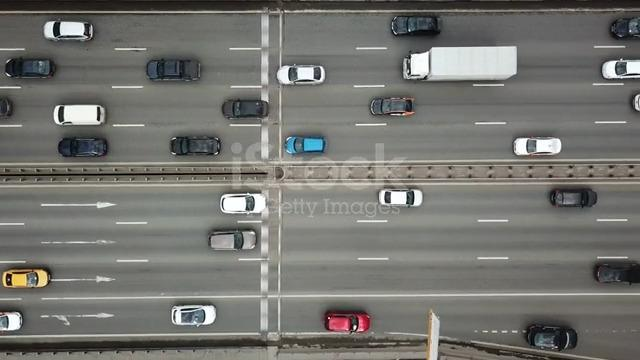Cars: (146, 58, 201, 82), (53, 104, 107, 126), (391, 15, 442, 37), (5, 57, 56, 79), (276, 64, 326, 86), (44, 20, 94, 42), (58, 137, 109, 158), (595, 262, 640, 285), (2, 268, 51, 289), (170, 136, 221, 156), (325, 311, 371, 333), (513, 137, 562, 157), (370, 96, 416, 117), (222, 99, 269, 119), (379, 188, 424, 208), (284, 136, 327, 155), (602, 59, 640, 80), (610, 17, 640, 40), (1, 311, 23, 332), (1, 98, 13, 118)
